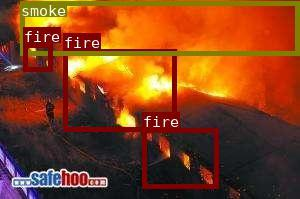fire: (63, 48, 175, 130), (141, 127, 218, 188), (22, 42, 51, 70)
smoke: (20, 1, 298, 54)
